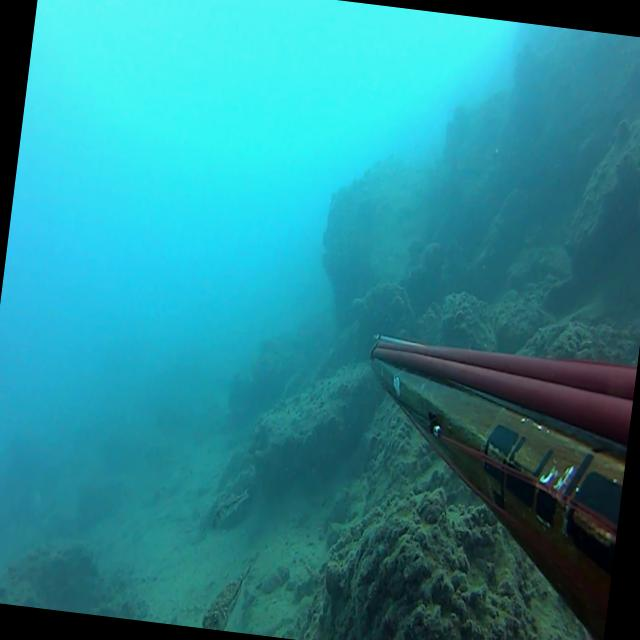Balon Baligi: (201, 557, 251, 633), (212, 484, 248, 533)
